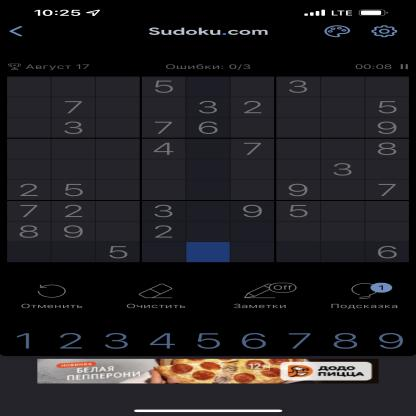sudoku: (4, 74, 416, 266)
